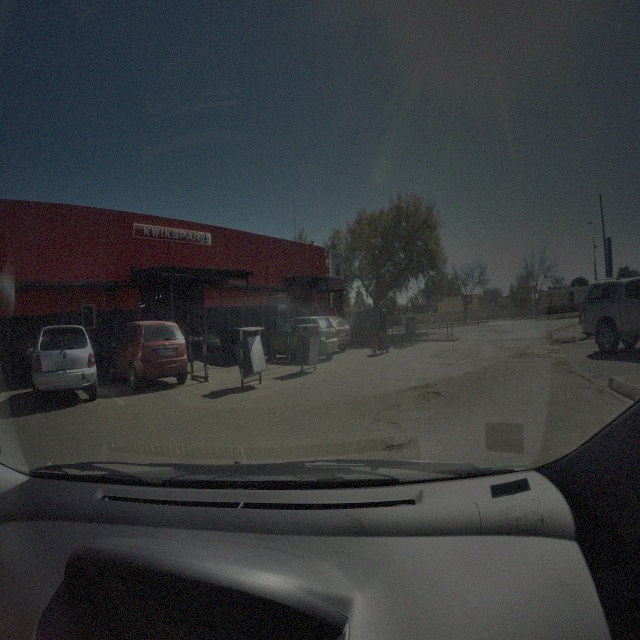pothole: (421, 390, 443, 402), (382, 444, 403, 454), (548, 350, 560, 356), (391, 403, 401, 410), (388, 421, 397, 426)
